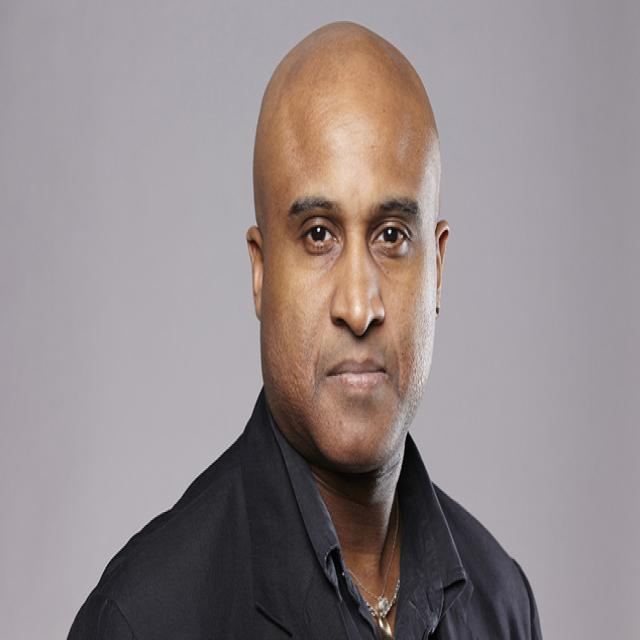Nonhelmet: (245, 15, 456, 490)
